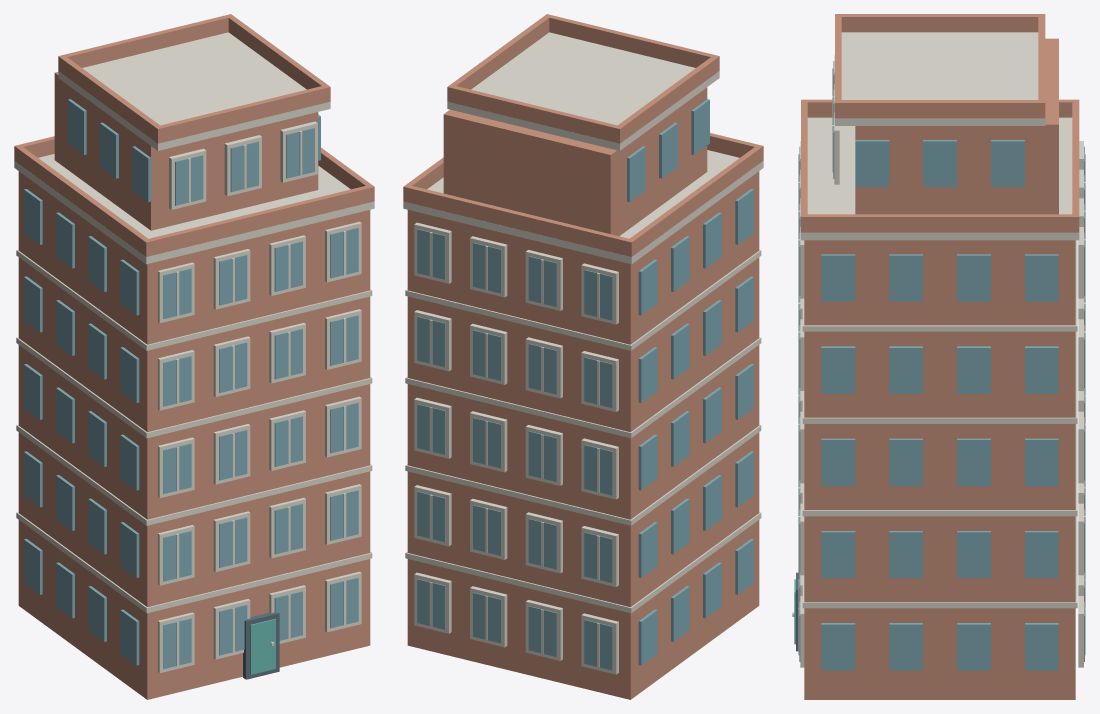
Rendered from predio_escritorio.glb.
3 renders of one model, left to right at view 1: azimuth 30°, elevation 25°; view 2: azimuth 150°, elevation 25°; view 3: azimuth 270°, elevation 25°, orthographic. The views are drawn at different scales.
Parts seen in each view (by area): view 1: office-setback-brick, office-setback-concrete, office-setback-glass, office-setback-accent, office-setback-dark; view 2: office-setback-brick, office-setback-concrete, office-setback-glass; view 3: office-setback-brick, office-setback-glass, office-setback-concrete.
Boxes of the visible parts, x1,y1,x2,y2 form: office-setback-brick: (14, 14, 374, 699); office-setback-concrete: (14, 32, 374, 672); office-setback-glass: (24, 99, 358, 668); office-setback-accent: (250, 618, 275, 674); office-setback-dark: (243, 612, 279, 679); office-setback-brick: (403, 14, 763, 699); office-setback-concrete: (403, 32, 763, 674); office-setback-glass: (417, 99, 753, 670); office-setback-brick: (801, 14, 1079, 699); office-setback-glass: (799, 61, 1084, 670); office-setback-concrete: (792, 32, 1085, 667).
Bounding box in the file's own units: 8.2 × 19 × 8.65.
